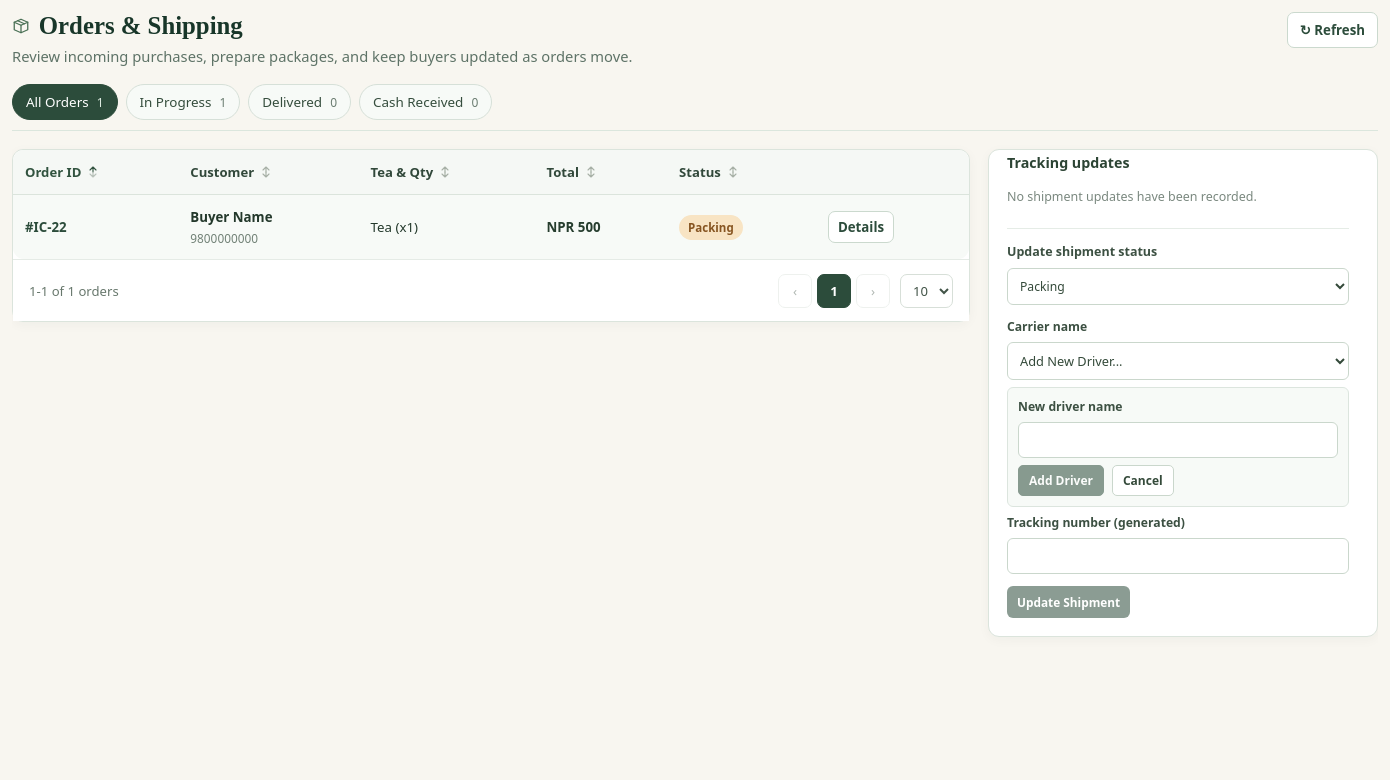
Test: adds a new driver to the roster and selects it for the order
Earlier steps of the test are not shown.
Later steps or results of the test are not shown.
(page scrolled)
Type "New Driver" into the field labelled "New driver name" at (1178, 440), box [1018, 422, 1338, 458]
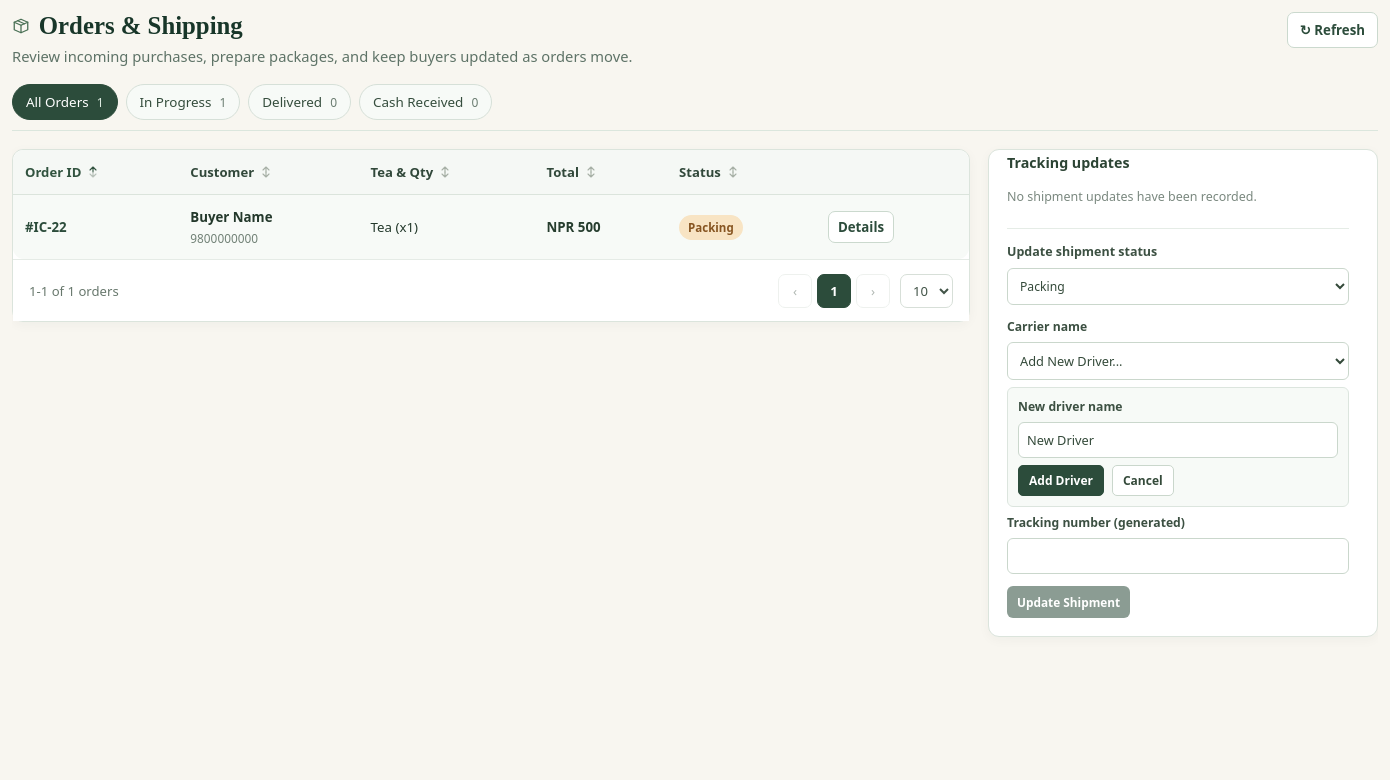
Click the button "Add Driver" at (1061, 480), box [1018, 465, 1104, 496]
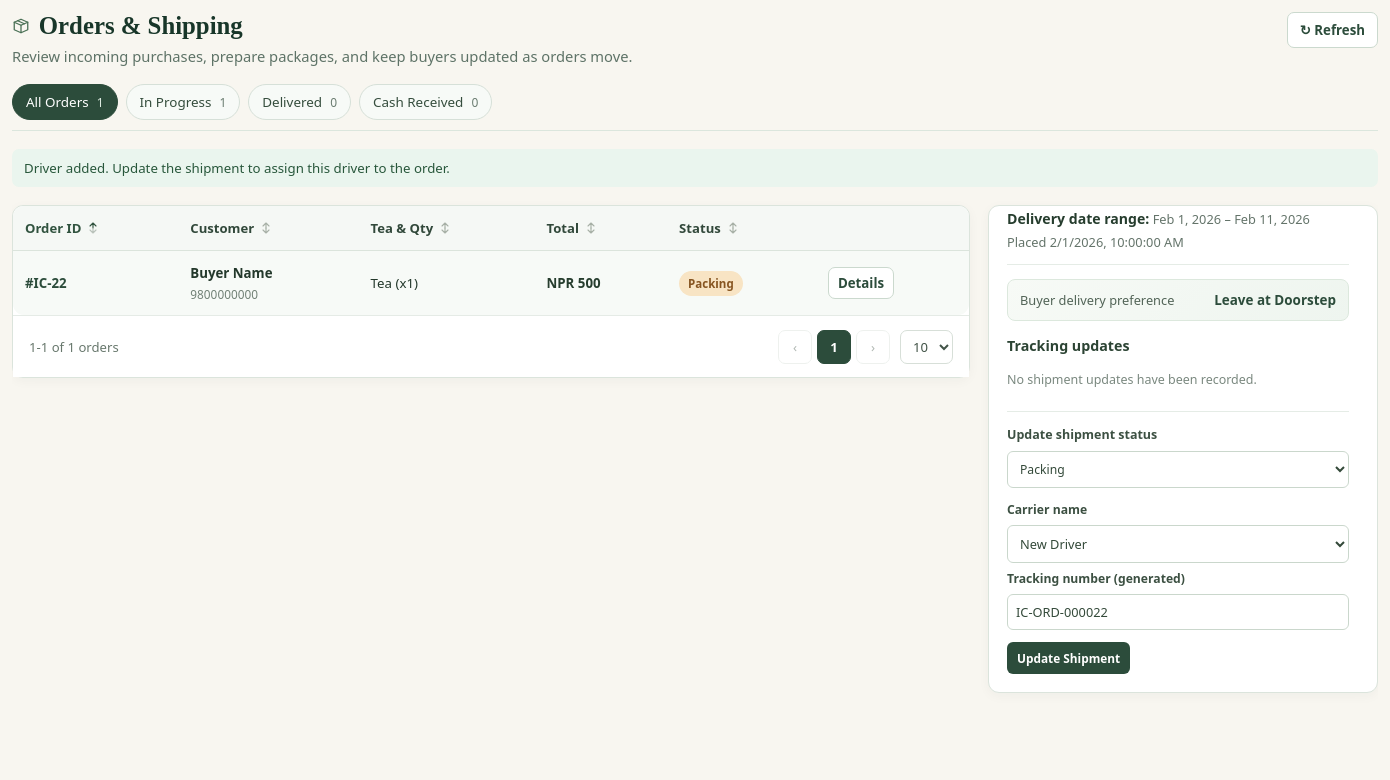
Now the field labelled "Tracking number (generated)" holds "IC-ORD-000022", box [1007, 594, 1349, 630]
